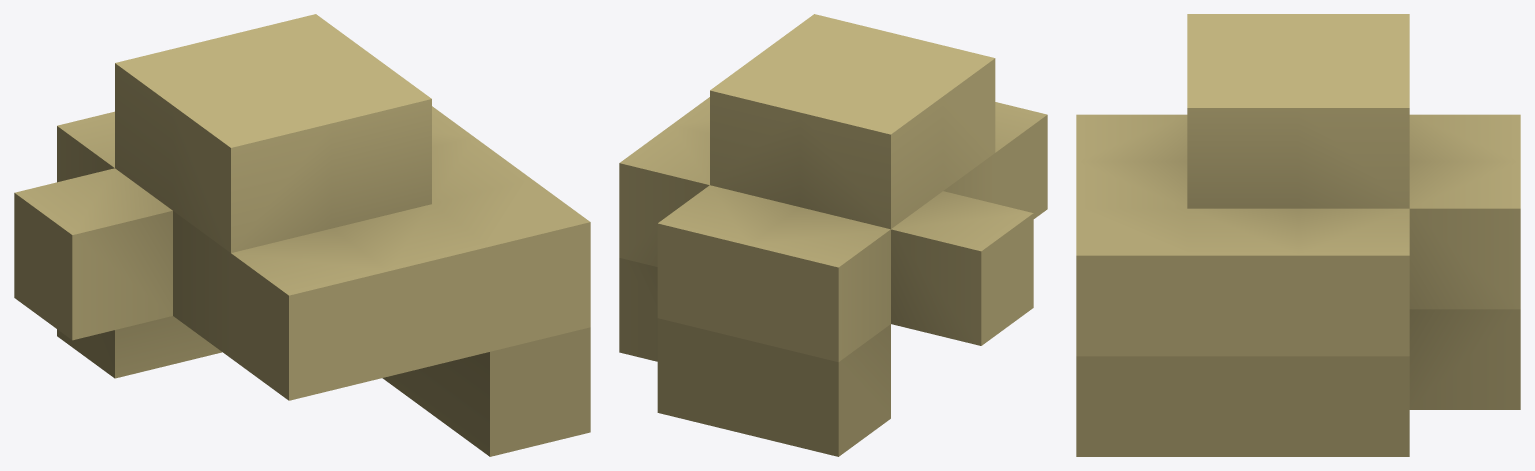
Rendered from buisson_petit_2.glb.
The picture shows the model from 3 angles, left to right: view 1: azimuth 30°, elevation 25°; view 2: azimuth 150°, elevation 25°; view 3: azimuth 270°, elevation 25°; orthographic projection. The views are drawn at different scales.
Visible parts, largest first — view 1: geometry_0; view 2: geometry_0; view 3: geometry_0.
Part boxes in pixels (<box>): geometry_0: <box>14,14,590,456</box>; geometry_0: <box>619,14,1047,456</box>; geometry_0: <box>1076,14,1520,456</box>.
Bounding box in the file's own units: 1 × 0.75 × 1.
